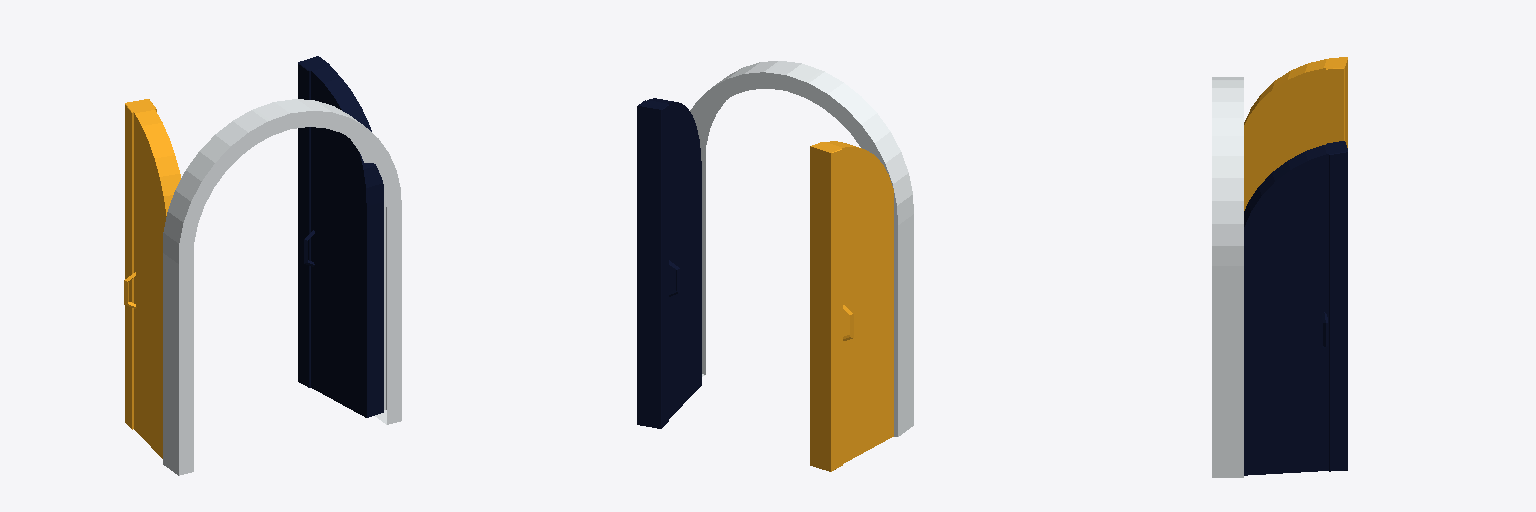
Rendered from low-poly-wooden-door.obj.
The picture shows the model from 3 angles: view 1: azimuth 30°, elevation 25°; view 2: azimuth 150°, elevation 25°; view 3: azimuth 270°, elevation 25°; orthographic projection.
Visible parts, largest first — view 1: r_2, br, r_1; view 2: r_1, r_2, br; view 3: r_2, br, r_1.
Part boxes in pixels (left/top/right/bottom): r_2: left=298, top=56, right=383, bottom=417; br: left=163, top=99, right=401, bottom=475; r_1: left=124, top=99, right=180, bottom=458; r_1: left=810, top=141, right=893, bottom=471; r_2: left=637, top=98, right=701, bottom=428; br: left=690, top=61, right=913, bottom=436; r_2: left=1244, top=141, right=1347, bottom=475; br: left=1212, top=77, right=1243, bottom=477; r_1: left=1244, top=57, right=1347, bottom=210.
Bounding box in the file's own units: 4.72 × 6.77 × 2.5.